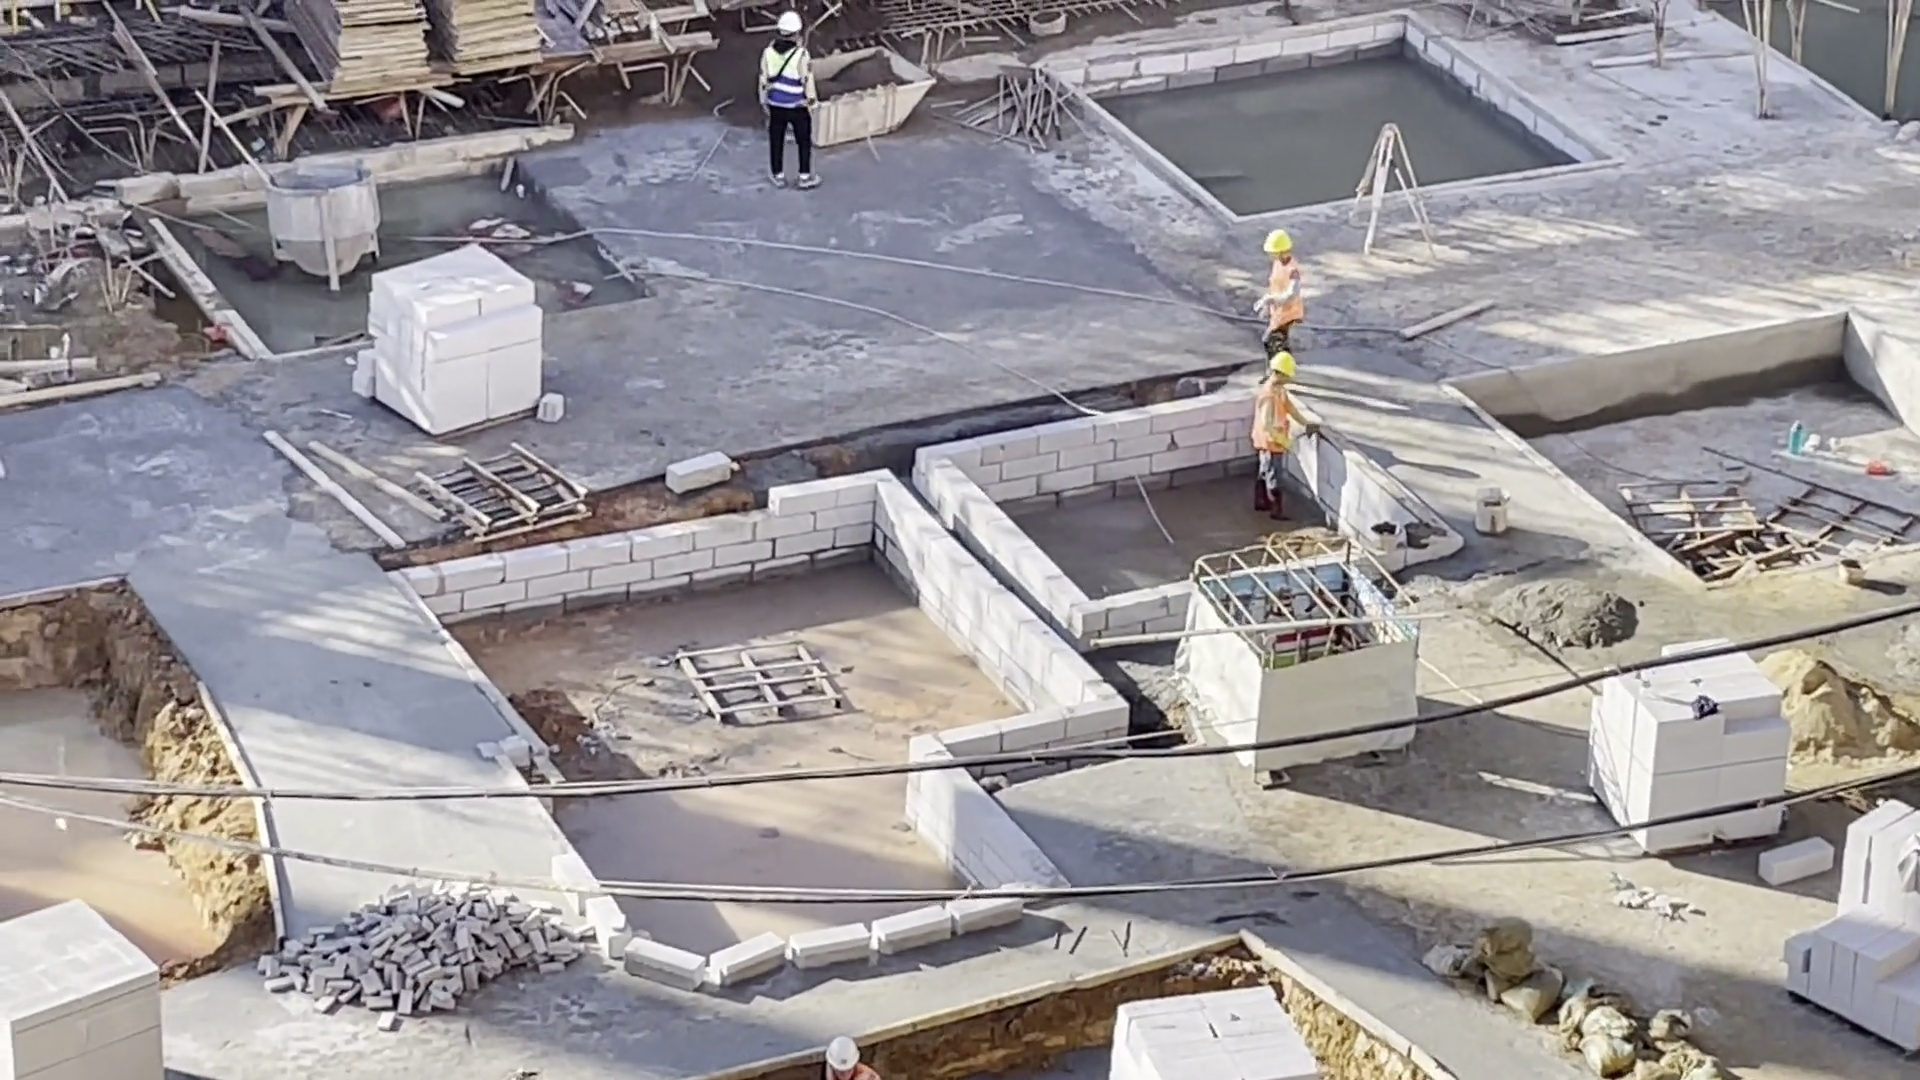board: (275, 1, 440, 97), (426, 5, 554, 76)
brick: (1773, 794, 1920, 1038), (373, 249, 550, 428), (6, 893, 164, 1080), (1582, 687, 1795, 795), (1106, 989, 1325, 1080)
helmet: (1257, 227, 1294, 253), (773, 9, 804, 36), (1271, 352, 1297, 380)
hopper: (259, 160, 381, 290), (817, 41, 941, 154)
person: (1249, 350, 1321, 522), (758, 10, 824, 193), (1253, 227, 1310, 353)
vest: (764, 43, 811, 109), (1255, 380, 1293, 454), (1266, 259, 1303, 331)
